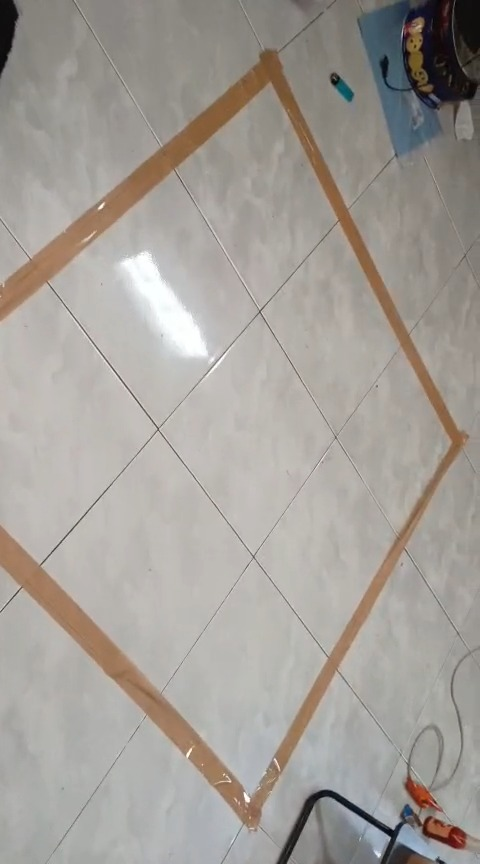floor marking: (0, 51, 467, 827)
